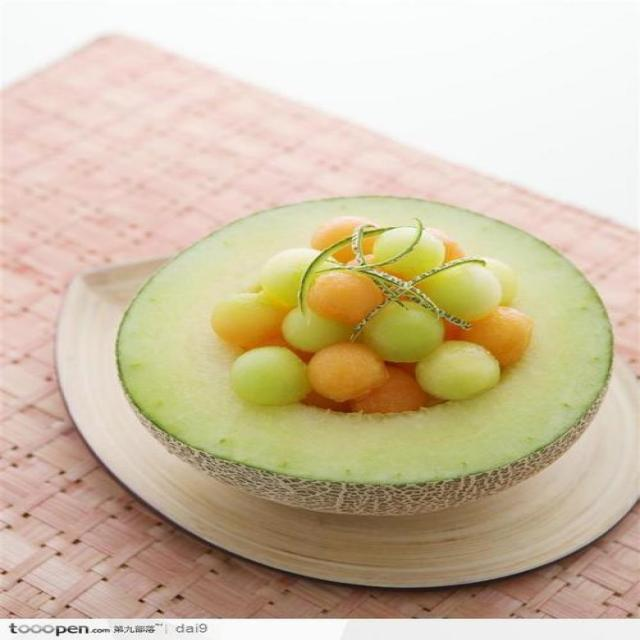Hami Melon: (116, 193, 612, 516)
